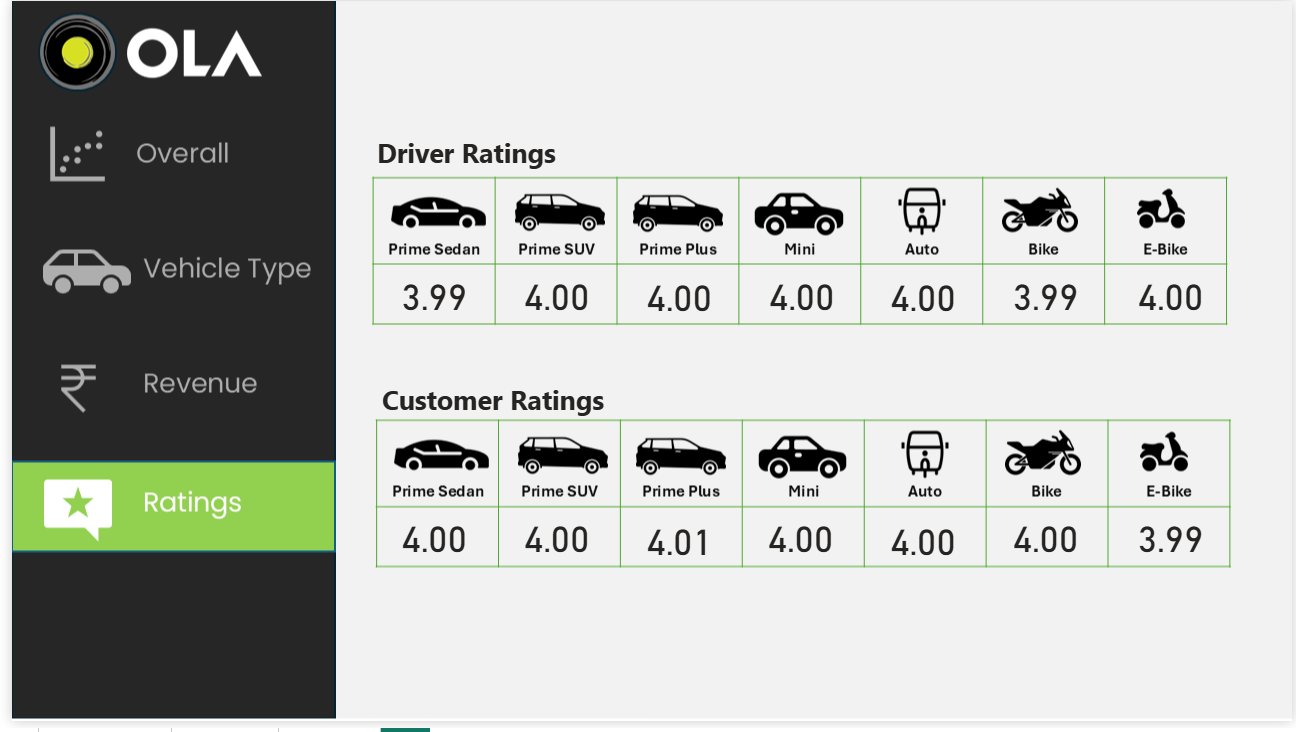

The page's visual inventory and layout, read from the dashboard file:
{"tool":"powerbi","page":{"name":"Ratings","canvas":[1280,720],"ordinal":3},"visuals":[{"type":"card","fields":{"Values":["Avg(cleaned_bookings.Driver_Ratings)"]},"box":[360,263.3,125,58.3],"z":0},{"type":"textbox","box":[360,128.3,210,51.7],"z":1000},{"type":"card","fields":{"Values":["Avg(cleaned_bookings.Driver_Ratings)"]},"box":[482.3,263.3,125,58.3],"z":2000},{"type":"card","fields":{"Values":["Avg(cleaned_bookings.Driver_Ratings)"]},"box":[604.7,265,125,58.3],"z":3000},{"type":"card","fields":{"Values":["Avg(cleaned_bookings.Driver_Ratings)"]},"box":[727,263.3,125,58.3],"z":4000},{"type":"card","fields":{"Values":["Avg(cleaned_bookings.Driver_Ratings)"]},"box":[849.3,265,125,58.3],"z":5000},{"type":"card","fields":{"Values":["Avg(cleaned_bookings.Driver_Ratings)"]},"box":[971.7,263.3,125,58.3],"z":6000},{"type":"card","fields":{"Values":["Avg(cleaned_bookings.Driver_Ratings)"]},"box":[1096.7,263.3,125,58.3],"z":7000},{"type":"textbox","box":[365,375,275,51.7],"z":8000},{"type":"card","fields":{"Values":["Avg(cleaned_bookings.Customer_Rating)"]},"box":[359.7,506.5,125,58.3],"z":9000},{"type":"card","fields":{"Values":["Avg(cleaned_bookings.Customer_Rating)"]},"box":[482,506.5,125,58.3],"z":10000},{"type":"card","fields":{"Values":["Avg(cleaned_bookings.Customer_Rating)"]},"box":[604.4,508.1,125,58.3],"z":11000},{"type":"card","fields":{"Values":["Avg(cleaned_bookings.Customer_Rating)"]},"box":[726.7,506.5,125,58.3],"z":12000},{"type":"card","fields":{"Values":["Avg(cleaned_bookings.Customer_Rating)"]},"box":[849,508.1,125,58.3],"z":13000},{"type":"card","fields":{"Values":["Avg(cleaned_bookings.Customer_Rating)"]},"box":[971.4,506.5,125,58.3],"z":14000},{"type":"card","fields":{"Values":["Avg(cleaned_bookings.Customer_Rating)"]},"box":[1096.4,506.5,125,58.3],"z":15000}]}

Visuals, with their boxes on the page's 1280x720 design canvas (x1, y1, x2, y2). These are canvas units, not pixel positions in the 1296x732 screenshot, which may show the page scaled, cropped or inside an application window:
card - Avg(cleaned_bookings.Driver_Ratings): 360, 263, 485, 322
textbox: 360, 128, 570, 180
card - Avg(cleaned_bookings.Driver_Ratings): 482, 263, 607, 322
card - Avg(cleaned_bookings.Driver_Ratings): 605, 265, 730, 323
card - Avg(cleaned_bookings.Driver_Ratings): 727, 263, 852, 322
card - Avg(cleaned_bookings.Driver_Ratings): 849, 265, 974, 323
card - Avg(cleaned_bookings.Driver_Ratings): 972, 263, 1097, 322
card - Avg(cleaned_bookings.Driver_Ratings): 1097, 263, 1222, 322
textbox: 365, 375, 640, 427
card - Avg(cleaned_bookings.Customer_Rating): 360, 506, 485, 565
card - Avg(cleaned_bookings.Customer_Rating): 482, 506, 607, 565
card - Avg(cleaned_bookings.Customer_Rating): 604, 508, 729, 566
card - Avg(cleaned_bookings.Customer_Rating): 727, 506, 852, 565
card - Avg(cleaned_bookings.Customer_Rating): 849, 508, 974, 566
card - Avg(cleaned_bookings.Customer_Rating): 971, 506, 1096, 565
card - Avg(cleaned_bookings.Customer_Rating): 1096, 506, 1221, 565
